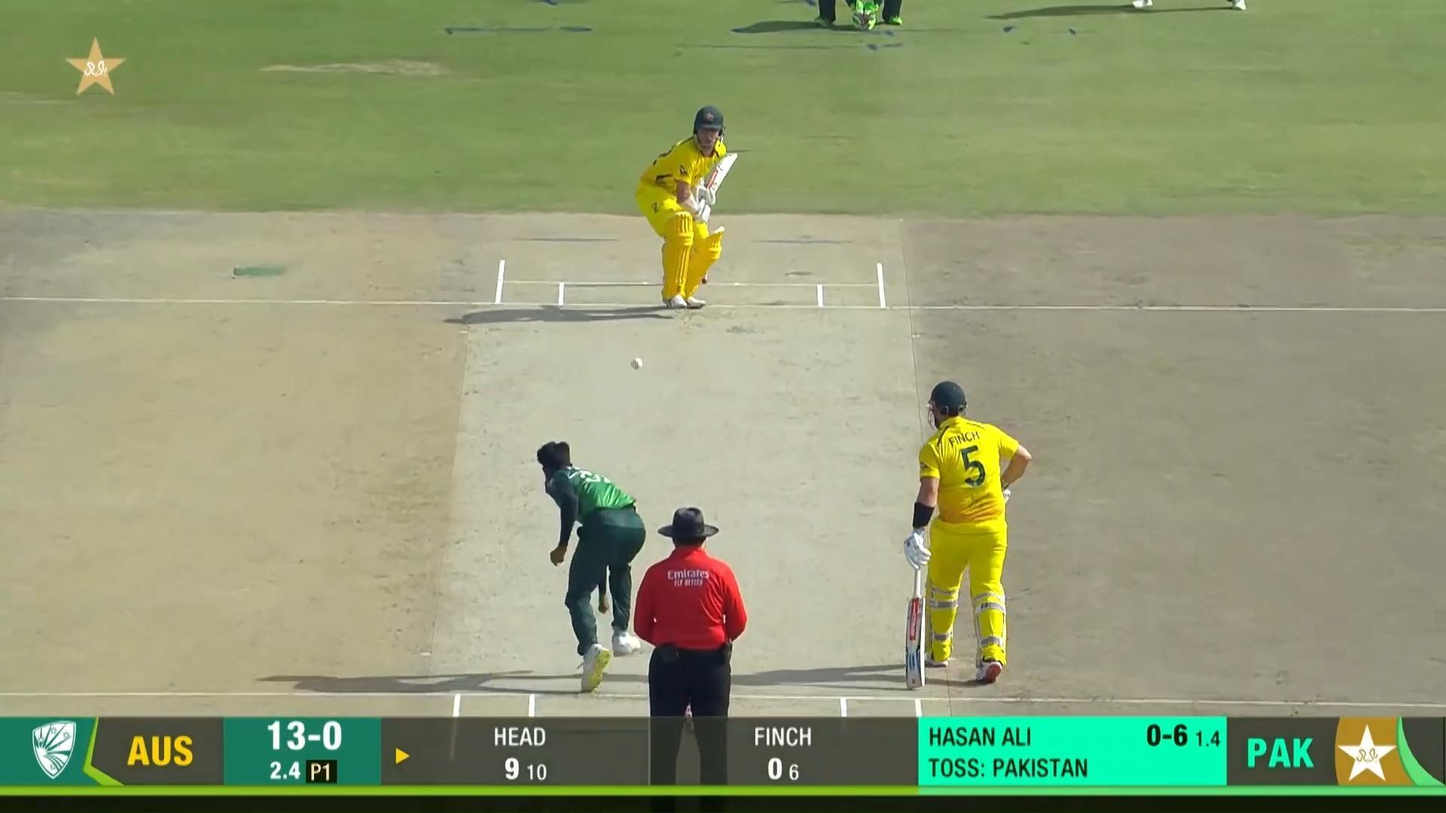BM 1: (636, 104, 740, 314)
BO: (536, 440, 648, 691)
